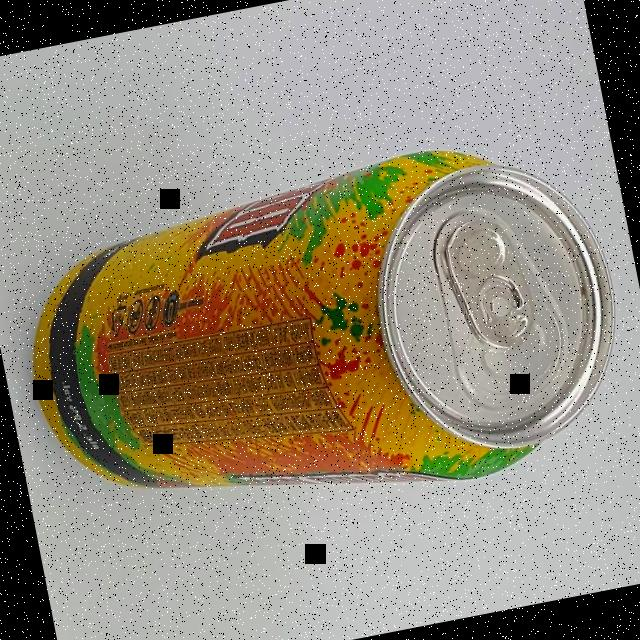can: (5, 121, 640, 558)
